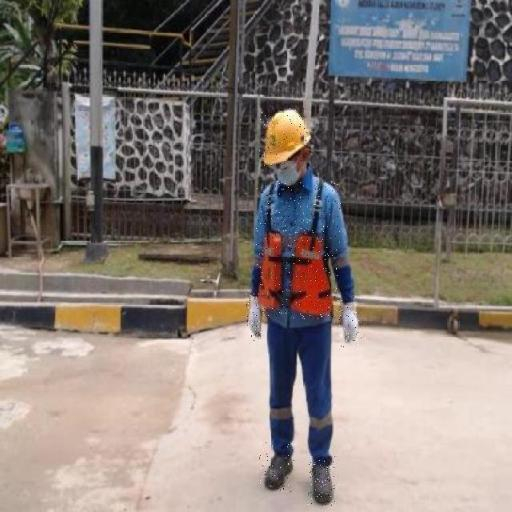Boots: (260, 442, 294, 493), (308, 456, 334, 506)
Helmet: (258, 108, 311, 166)
